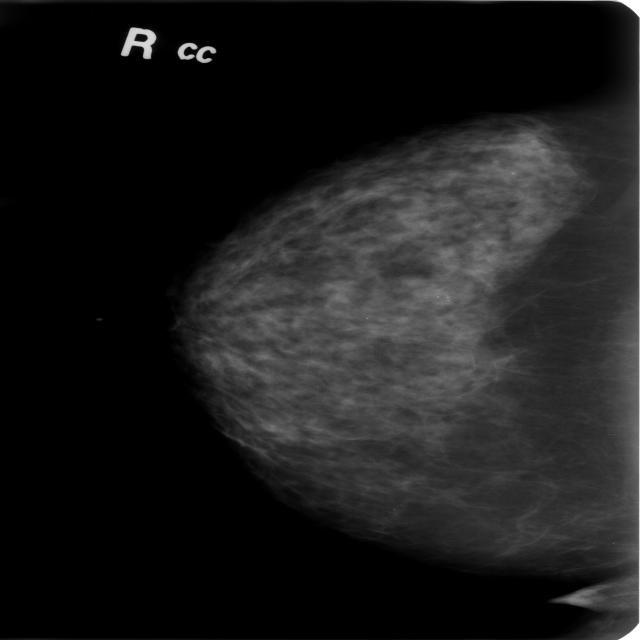cancer: (163, 116, 572, 508)
